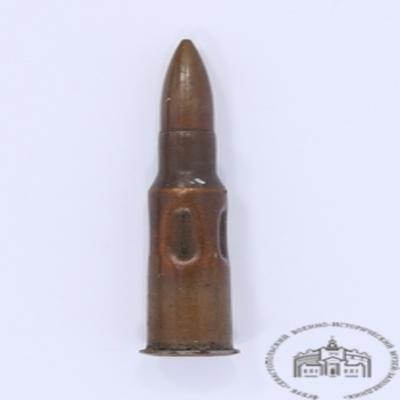weapon: (139, 39, 239, 359)
